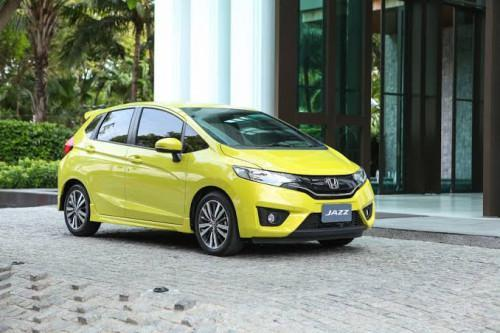Hatchback: (49, 95, 384, 254)
